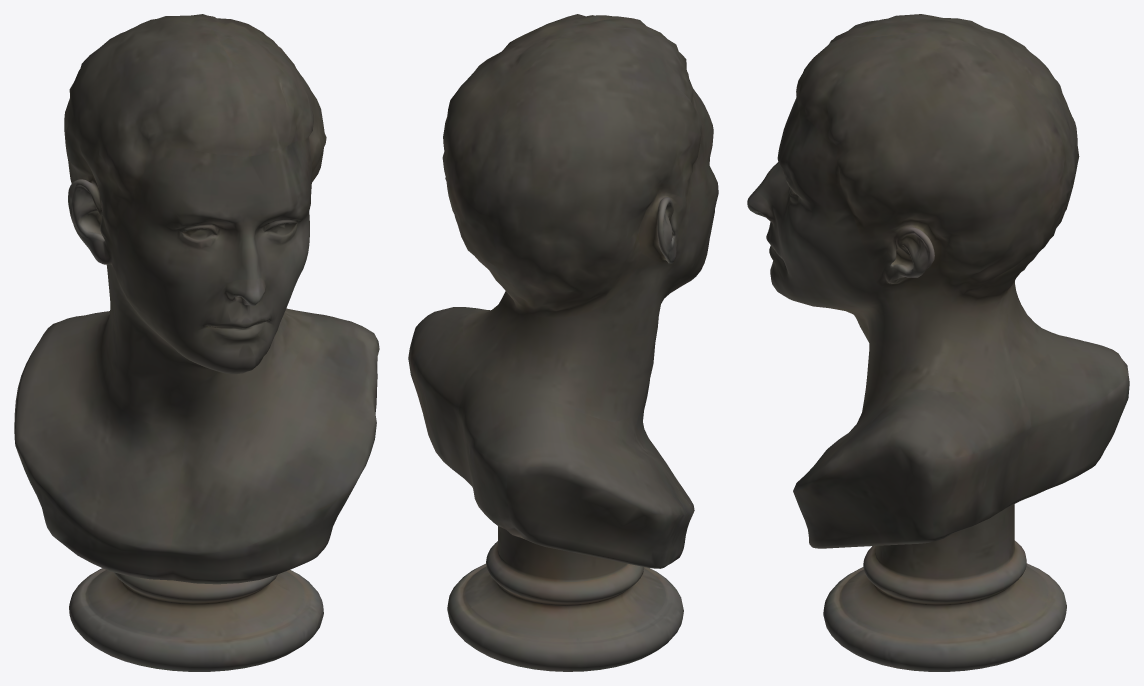
Rendered from marble_bust_01.glb.
3 views of the same model, side by side, from view 1: azimuth 30°, elevation 25°; view 2: azimuth 150°, elevation 25°; view 3: azimuth 270°, elevation 25° (orthographic). The views are drawn at different scales.
Visible parts, largest first — view 1: marble_bust_01; view 2: marble_bust_01; view 3: marble_bust_01.
Boxes of the visible parts, x1,y1,x2,y2 form: marble_bust_01: [14, 14, 379, 671]; marble_bust_01: [408, 14, 718, 671]; marble_bust_01: [747, 14, 1129, 671].
Bounding box in the file's own units: 0.2718 × 0.5148 × 0.2997.
Materials: 1 (1 with a texture image).
